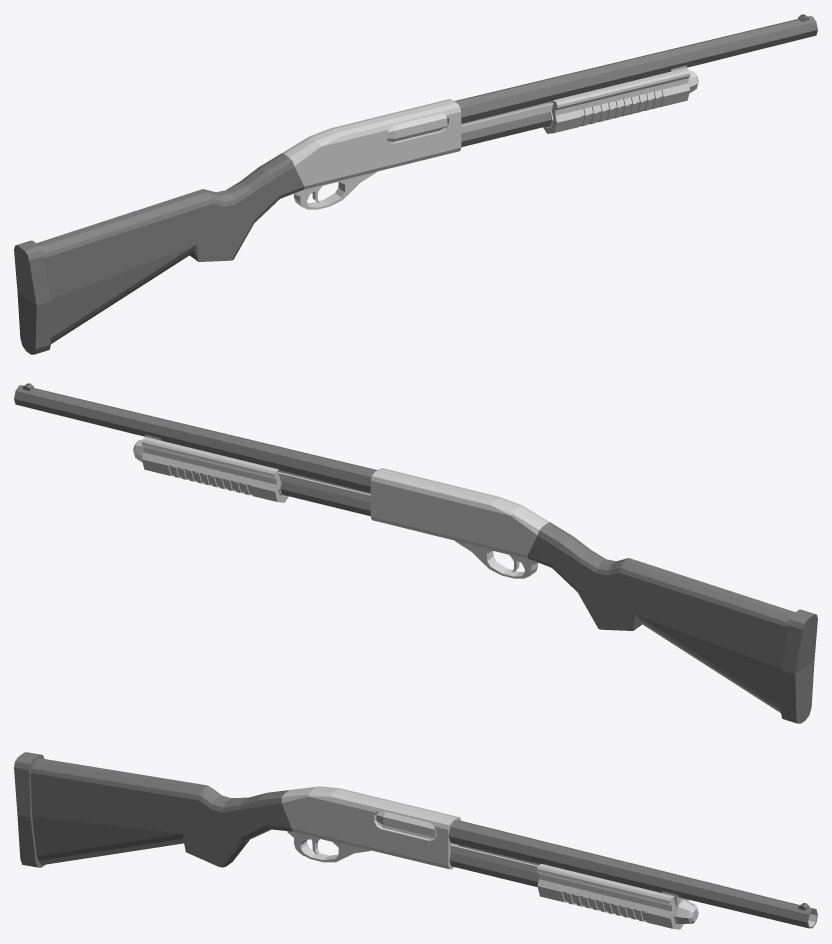
Rendered from Remington 870.fbx.
3 renders of one model, top to bottom at view 1: azimuth 30°, elevation 25°; view 2: azimuth 150°, elevation 25°; view 3: azimuth 330°, elevation 25°, orthographic.
Visible parts, largest first — view 1: Base, Handguard, Pump; view 2: Base, Handguard, Pump; view 3: Base, Handguard, Pump, Mag Cap.
Boxes of the visible parts, x1,y1,x2,y2 form: Base: [14, 14, 817, 354]; Handguard: [543, 68, 690, 133]; Pump: [387, 101, 553, 142]; Base: [14, 383, 817, 723]; Handguard: [141, 437, 288, 502]; Pump: [278, 470, 370, 502]; Base: [14, 752, 817, 928]; Handguard: [537, 863, 688, 929]; Pump: [376, 811, 539, 873]; Mag Cap: [675, 900, 698, 924].
Bounding box in the file's own units: 402 × 72.51 × 18.01.
